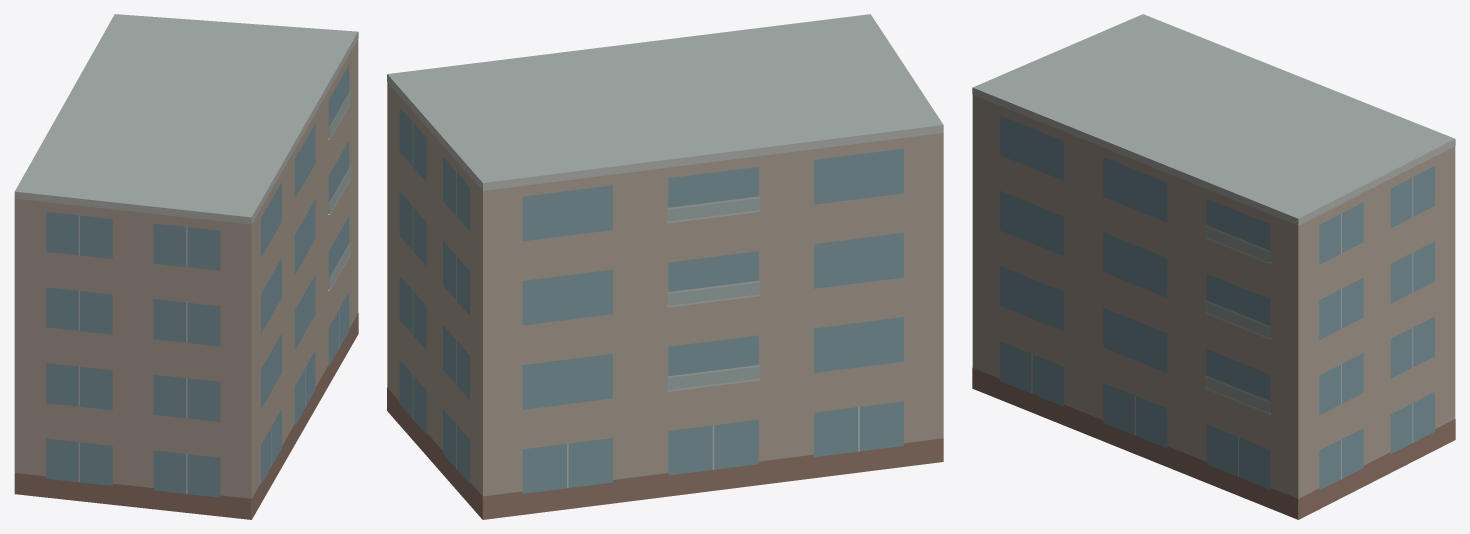
File: survey-upis-32688563.glb
The picture shows the model from 3 angles, left to right: view 1: azimuth 30°, elevation 25°; view 2: azimuth 150°, elevation 25°; view 3: azimuth 270°, elevation 25°; orthographic projection. The views are drawn at different scales.
Parts seen in each view (by area): view 1: survey-upis-32688563.tmp; view 2: survey-upis-32688563.tmp; view 3: survey-upis-32688563.tmp.
Part boxes in pixels (box(x1,y1,x2,y2)): survey-upis-32688563.tmp: box(14, 14, 358, 519); survey-upis-32688563.tmp: box(387, 14, 943, 519); survey-upis-32688563.tmp: box(972, 14, 1455, 519).
Size of the model in its own units: 15.18 by 10.4 by 15.13.
